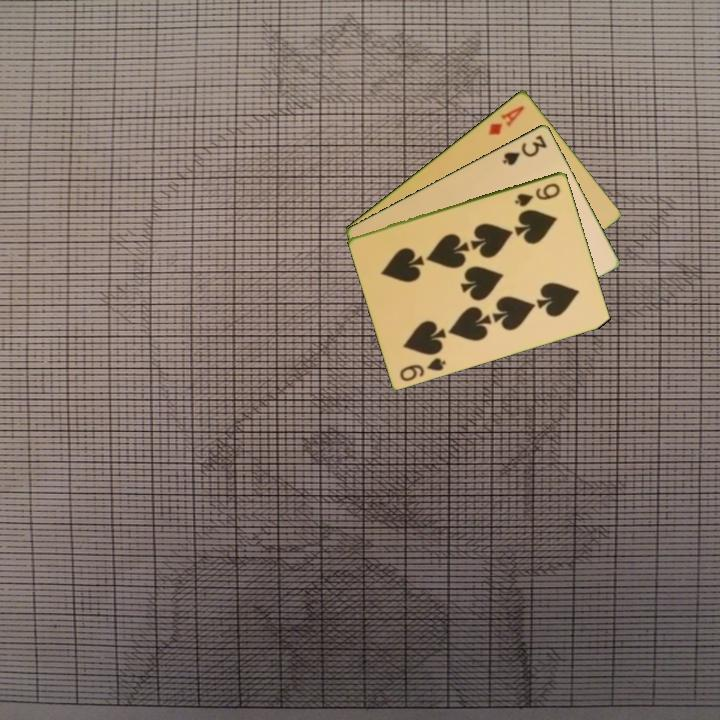3s: (499, 131, 550, 168)
9s: (396, 354, 449, 384), (511, 179, 563, 209)
Ad: (485, 101, 527, 138)
